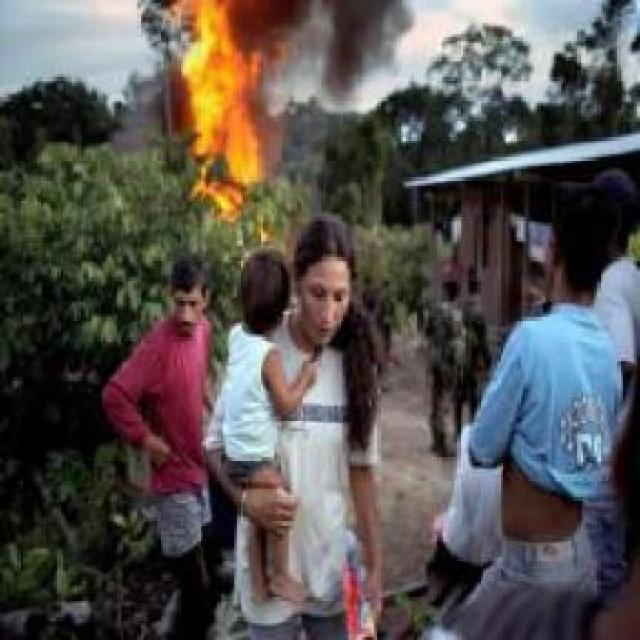Fire: (171, 0, 279, 218)
Smoke: (282, 0, 410, 98)
